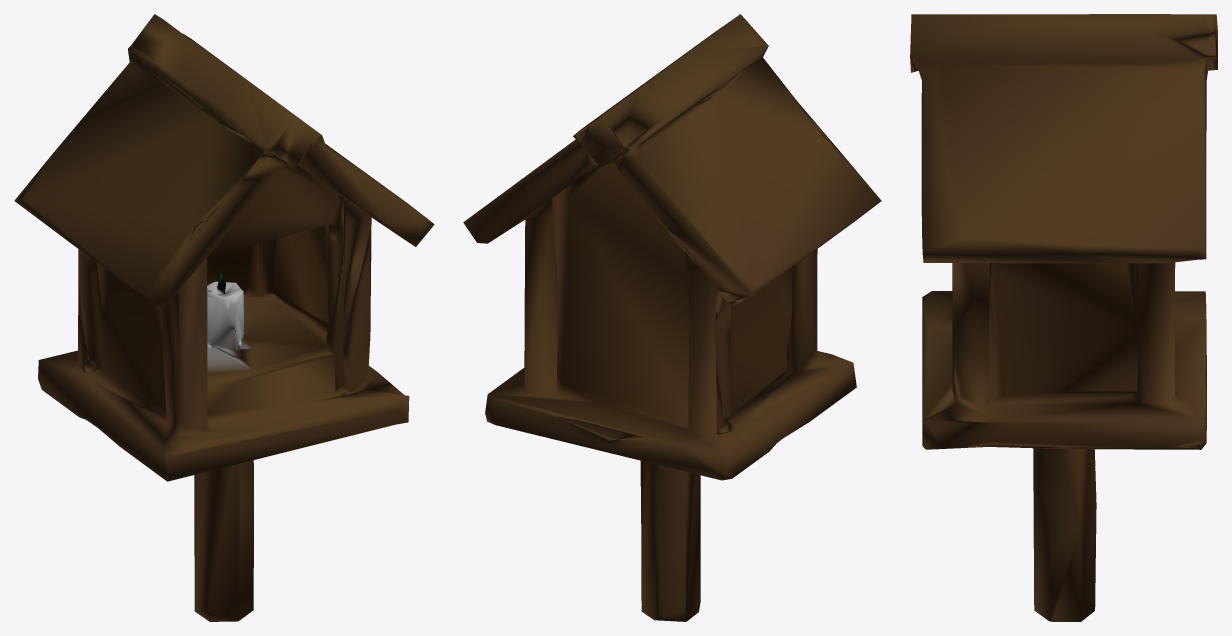
The model's file is gen3d-forest-shrine-lod1.glb.
3 views of the same model, side by side, from view 1: azimuth 30°, elevation 25°; view 2: azimuth 150°, elevation 25°; view 3: azimuth 270°, elevation 25° (orthographic). The views are drawn at different scales.
Visible parts, largest first — view 1: part_0; view 2: part_0; view 3: part_0.
Boxes of the visible parts, x1,y1,x2,y2 form: part_0: (14,14,434,621); part_0: (463,14,881,621); part_0: (910,14,1217,621).
Bounding box in the file's own units: 0.5589 × 0.9999 × 0.4673.
